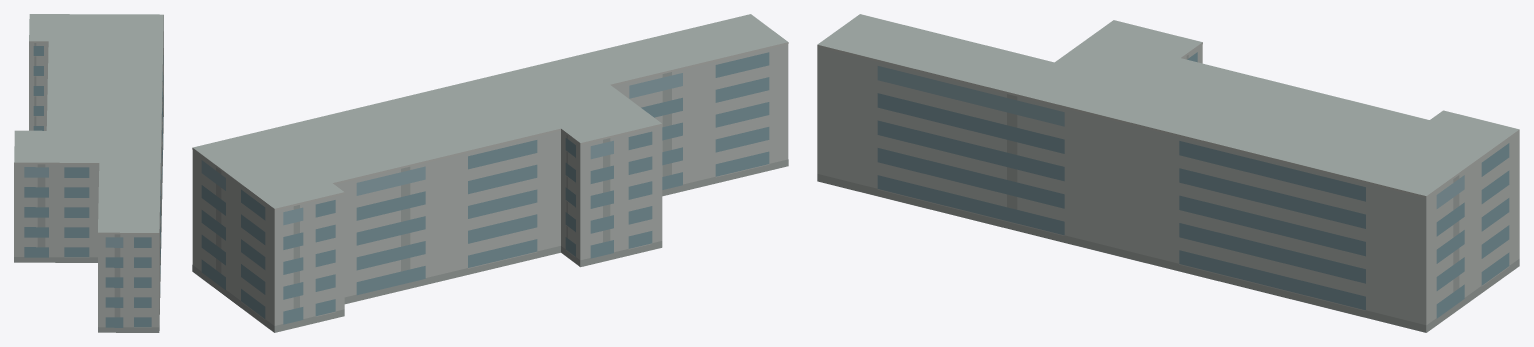
Rendered from residential-73db98fa-fba3-4f2f-b9d4-e961a751a8db.glb.
3 views of the same model, side by side, from view 1: azimuth 30°, elevation 25°; view 2: azimuth 150°, elevation 25°; view 3: azimuth 270°, elevation 25° (orthographic). The views are drawn at different scales.
Parts seen in each view (by area): view 1: residential-73db98fa-fba3-4f2f-b9d4-e961a751a8db.tmp; view 2: residential-73db98fa-fba3-4f2f-b9d4-e961a751a8db.tmp; view 3: residential-73db98fa-fba3-4f2f-b9d4-e961a751a8db.tmp.
Boxes of the visible parts, box(x1,y1,x2,y2) form: residential-73db98fa-fba3-4f2f-b9d4-e961a751a8db.tmp: box(14, 14, 163, 332); residential-73db98fa-fba3-4f2f-b9d4-e961a751a8db.tmp: box(192, 14, 788, 332); residential-73db98fa-fba3-4f2f-b9d4-e961a751a8db.tmp: box(817, 14, 1519, 332).
Bounding box in the file's own units: 43.59 × 15.25 × 71.
